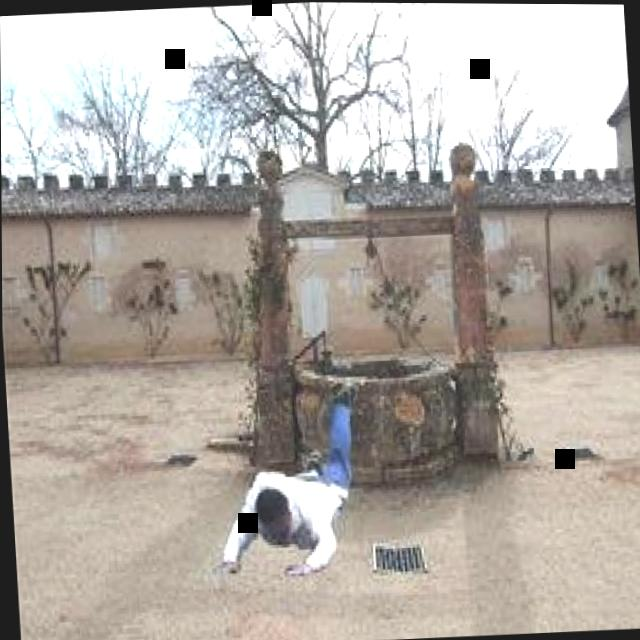Fall-Detected: (195, 345, 383, 584)
